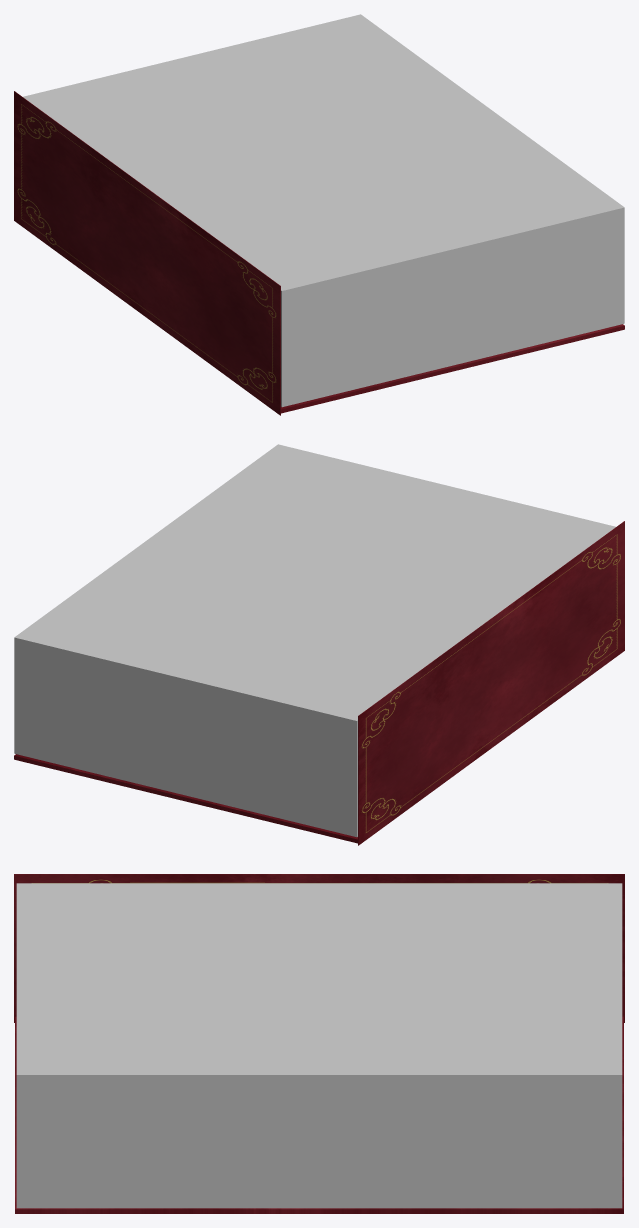
The model's file is Libro.fbx.
3 renders of one model, top to bottom at view 1: azimuth 30°, elevation 25°; view 2: azimuth 150°, elevation 25°; view 3: azimuth 270°, elevation 25°, orthographic. The views are drawn at different scales.
Visible parts, largest first — view 1: Page-10.002, Page-10.001, Page-10; view 2: Page-10.002, Page-10.001, Page-10; view 3: Page-10.002, Page-10.001, Page-10.
Boxes of the visible parts, x1=… form: Page-10.002: x1=23, y1=14, x2=624, y2=407; Page-10.001: x1=14, y1=91, x2=280, y2=415; Page-10: x1=281, y1=324, x2=624, y2=413; Page-10.002: x1=14, y1=444, x2=615, y2=837; Page-10.001: x1=358, y1=521, x2=624, y2=845; Page-10: x1=14, y1=754, x2=357, y2=843; Page-10.002: x1=16, y1=883, x2=622, y2=1208; Page-10.001: x1=14, y1=874, x2=624, y2=1022; Page-10: x1=15, y1=1016, x2=623, y2=1213.
Bounding box in the file's own units: 14.98 × 5.37 × 19.99.
